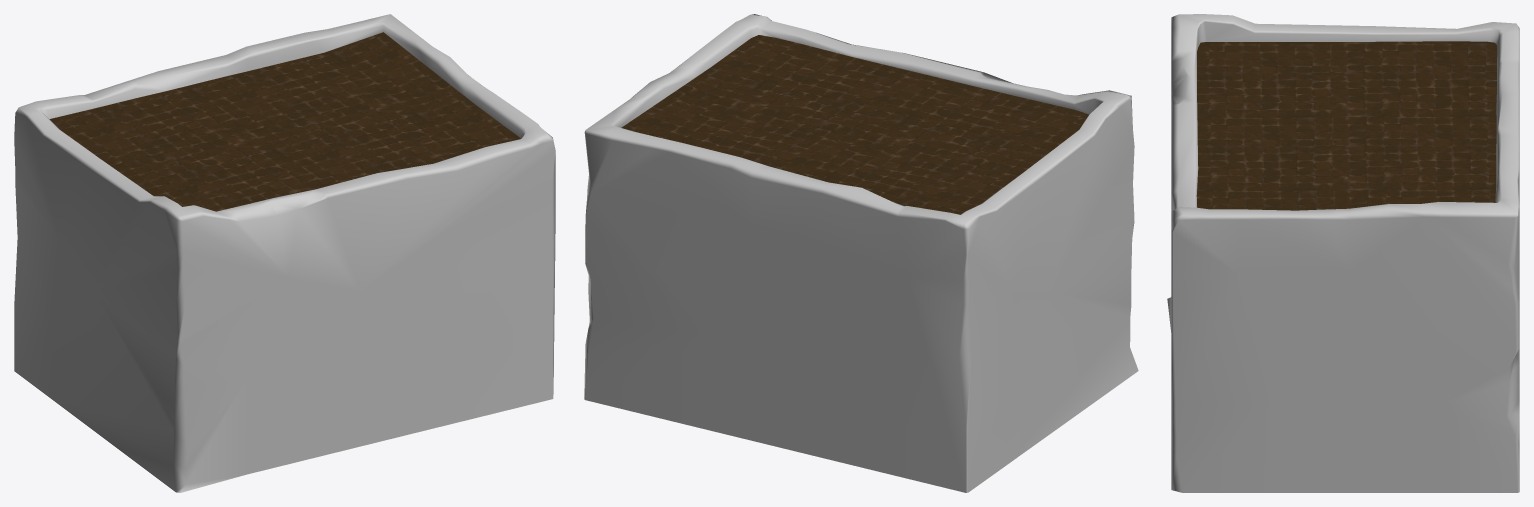
File: lower_city_house_07_01.fbx
3 renders of one model, left to right at view 1: azimuth 30°, elevation 25°; view 2: azimuth 150°, elevation 25°; view 3: azimuth 270°, elevation 25°, orthographic. The views are drawn at different scales.
Parts seen in each view (by area): view 1: lower_city_house_07_01; view 2: lower_city_house_07_01; view 3: lower_city_house_07_01.
Boxes of the visible parts, <box> form: lower_city_house_07_01: <box>14,14,555,492</box>; lower_city_house_07_01: <box>584,14,1138,492</box>; lower_city_house_07_01: <box>1167,14,1519,492</box>.
Size of the model in its own units: 10.26 by 7 by 7.79.
